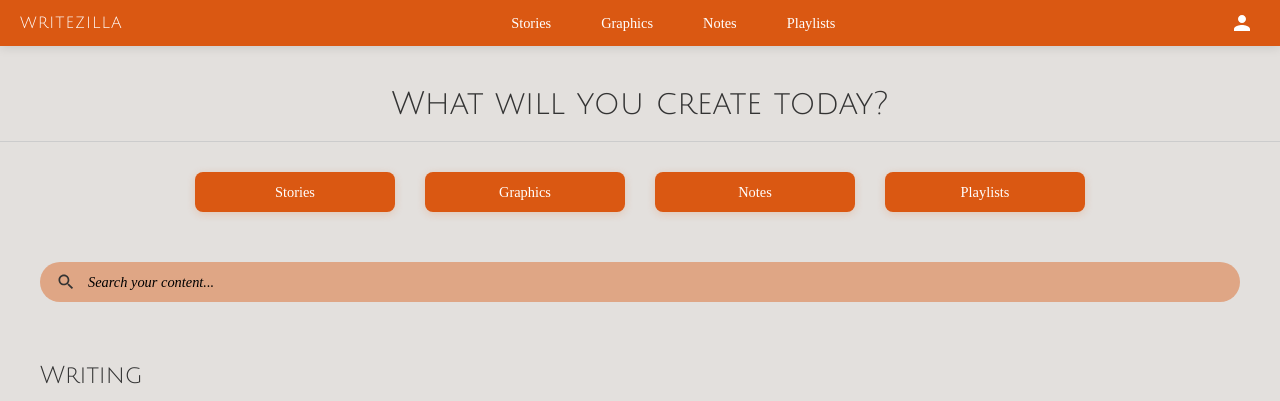
Test case: UserDashboard Component › Profile Menu Functionality › should toggle dropdown when profile button is clicked
The width and height of the screenshot is (1280, 401).
# First click - should open dropdown
Click the button named "profile" at (1242, 23), box [1224, 5, 1260, 41]
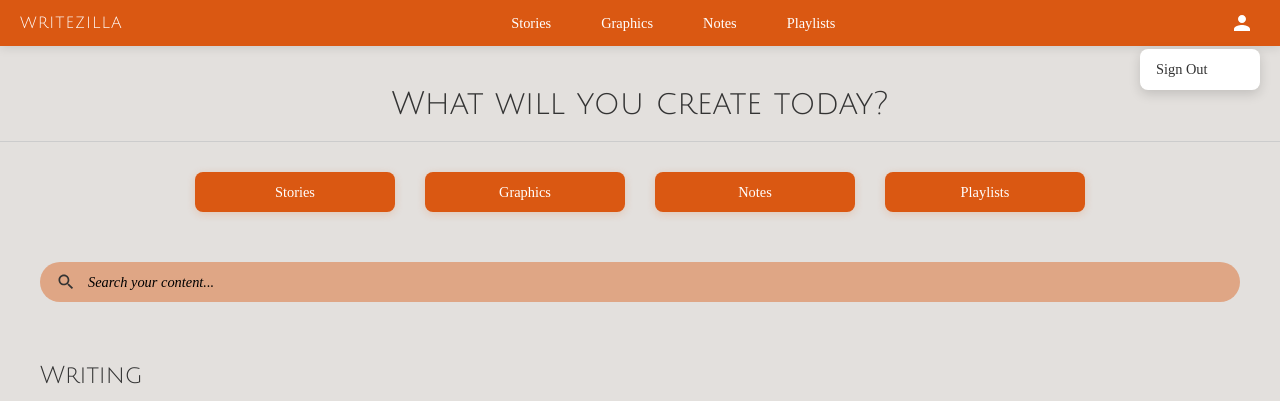
expect the button "Sign Out" is shown: met, box [1140, 49, 1260, 90]
# Second click - should close dropdown
Click the button named "profile" at (1242, 23), box [1224, 5, 1260, 41]
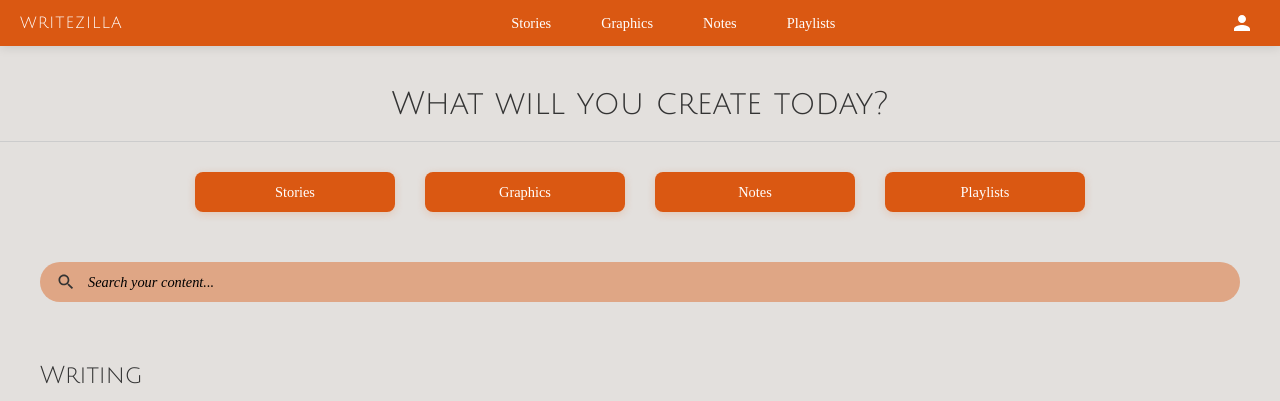
expect the button "Sign Out" is gone: met
